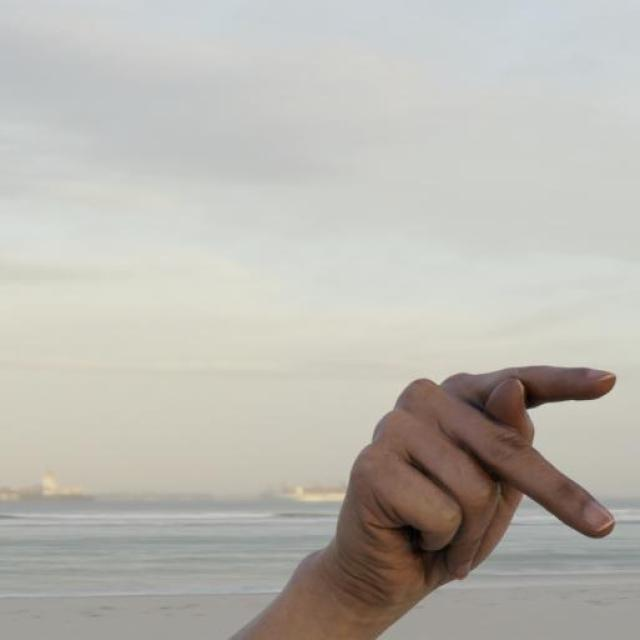P: (328, 358, 624, 610)
